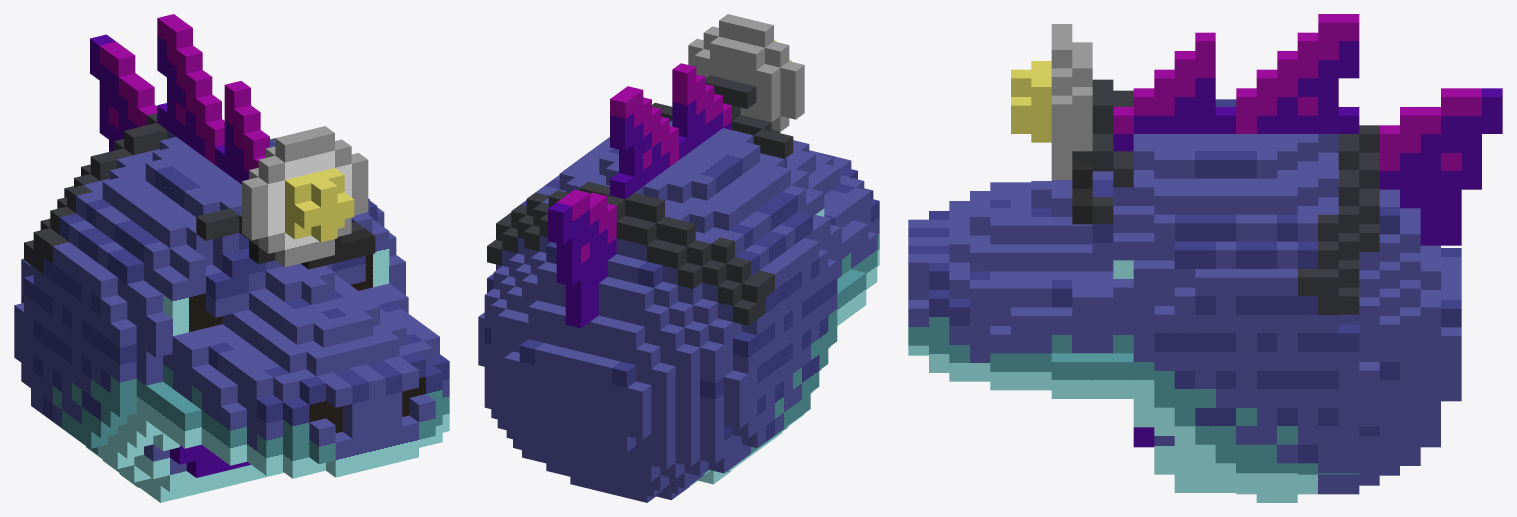
The model's file is doctor_eye patch.gltf.
The picture shows the model from 3 angles, left to right: view 1: azimuth 30°, elevation 25°; view 2: azimuth 150°, elevation 25°; view 3: azimuth 270°, elevation 25°; orthographic projection. The views are drawn at different scales.
Parts seen in each view (by area): view 1: C15_H_DoctorL_EyeP_SkyDiving-Mesh; view 2: C15_H_DoctorL_EyeP_SkyDiving-Mesh; view 3: C15_H_DoctorL_EyeP_SkyDiving-Mesh.
Boxes of the visible parts, x1,y1,x2,y2 form: C15_H_DoctorL_EyeP_SkyDiving-Mesh: [14, 14, 449, 502]; C15_H_DoctorL_EyeP_SkyDiving-Mesh: [478, 14, 879, 502]; C15_H_DoctorL_EyeP_SkyDiving-Mesh: [908, 14, 1502, 502].
Bounding box in the file's own units: 17 × 24 × 29.
Materials: 1 (1 with a texture image).
